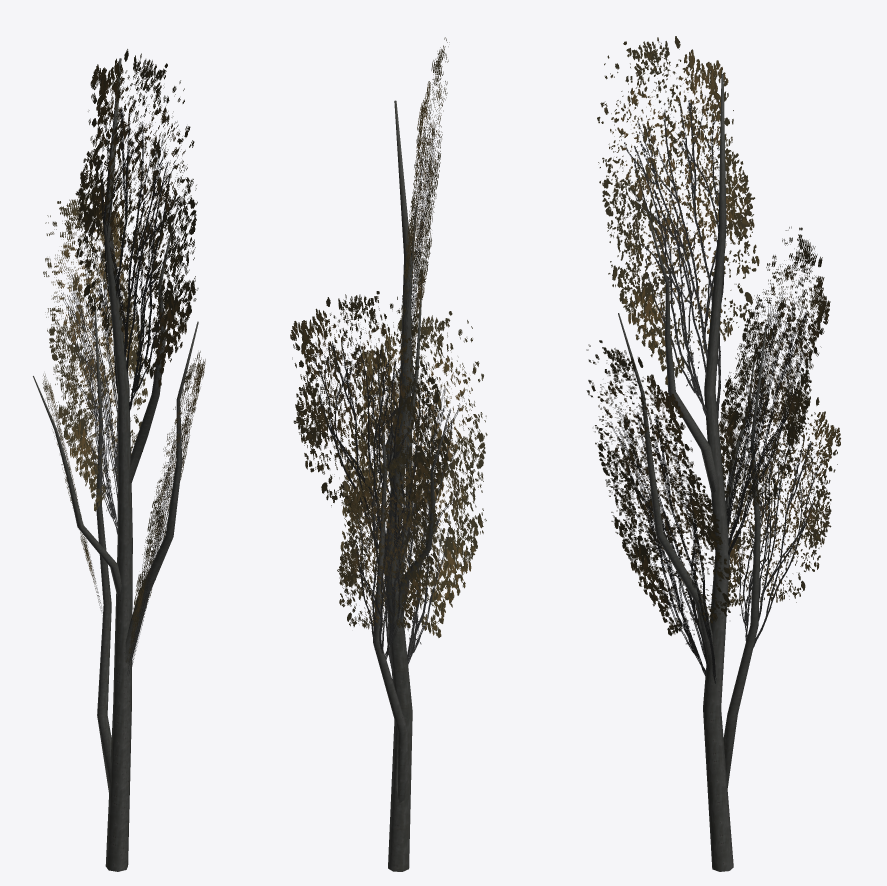
File: Tree_thin01.fbx
3 views of the same model, side by side, from view 1: azimuth 30°, elevation 25°; view 2: azimuth 150°, elevation 25°; view 3: azimuth 270°, elevation 25° (orthographic). The views are drawn at different scales.
Parts seen in each view (by area): view 1: Tree_thin01; view 2: Tree_thin01; view 3: Tree_thin01.
Boxes of the visible parts, left/top/right/bottom form: Tree_thin01: left=33, top=49, right=205, bottom=871; Tree_thin01: left=290, top=37, right=487, bottom=871; Tree_thin01: left=586, top=36, right=840, bottom=871.
Size of the model in its own units: 1.54 by 7.35 by 2.58.
2 materials, 2 textured.
